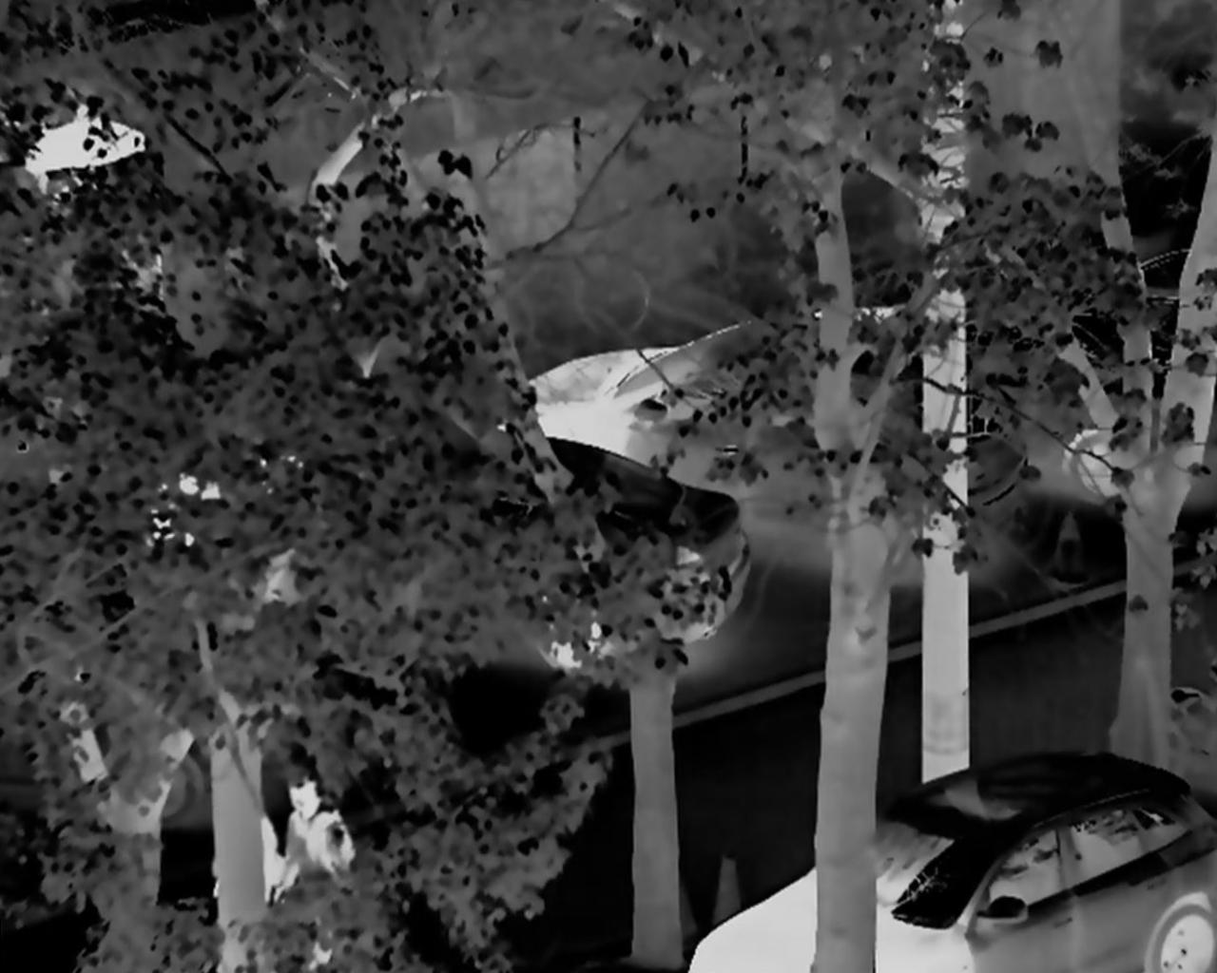person: (275, 773, 355, 973), (219, 800, 299, 973)
